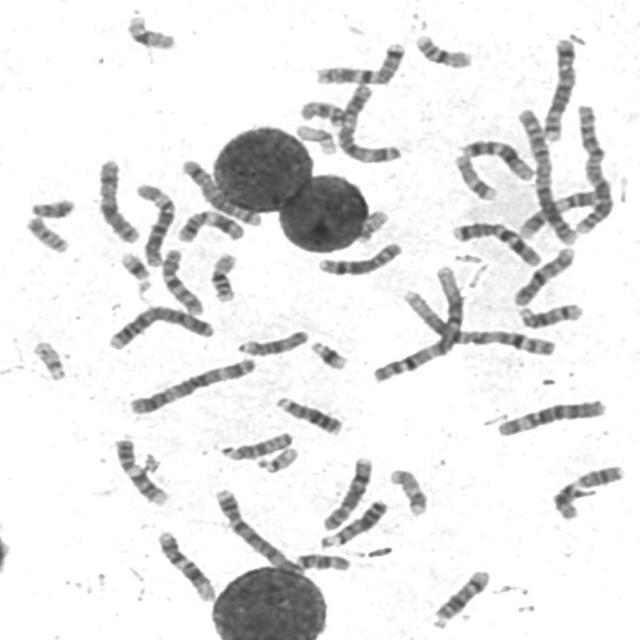A1: (368, 262, 468, 386), (397, 284, 559, 358)
A2: (512, 105, 580, 247), (570, 100, 616, 235)
A3: (124, 353, 259, 417), (333, 80, 404, 164)
B4: (210, 484, 308, 576), (102, 300, 216, 352)
B5: (178, 155, 264, 228), (536, 33, 580, 144)
C10: (509, 243, 578, 308), (156, 243, 207, 317)
C11: (548, 461, 628, 522), (172, 207, 247, 244)
C12: (152, 526, 218, 604), (456, 134, 538, 182)
C6: (492, 395, 608, 439), (130, 178, 178, 269)
C7: (447, 217, 544, 268), (310, 38, 408, 86)
C8: (317, 450, 376, 532), (313, 237, 405, 278)
C9: (516, 184, 606, 240), (110, 433, 172, 508)
D13: (315, 494, 390, 550), (272, 392, 344, 436)
D14: (428, 564, 493, 630), (513, 299, 586, 330)
D15: (219, 427, 296, 463), (233, 325, 311, 358)
E16: (410, 29, 475, 70), (205, 249, 239, 304)
E17: (450, 150, 500, 203), (385, 464, 431, 518)
E18: (291, 548, 352, 574), (296, 98, 346, 129)
F19: (122, 14, 179, 54), (291, 119, 339, 157)
F20: (20, 212, 72, 254), (348, 209, 394, 248)
G21: (306, 336, 350, 372), (116, 248, 154, 285)
G22: (27, 336, 69, 382), (252, 442, 300, 475)
X: (92, 154, 142, 244)
Y: (26, 194, 77, 219)
